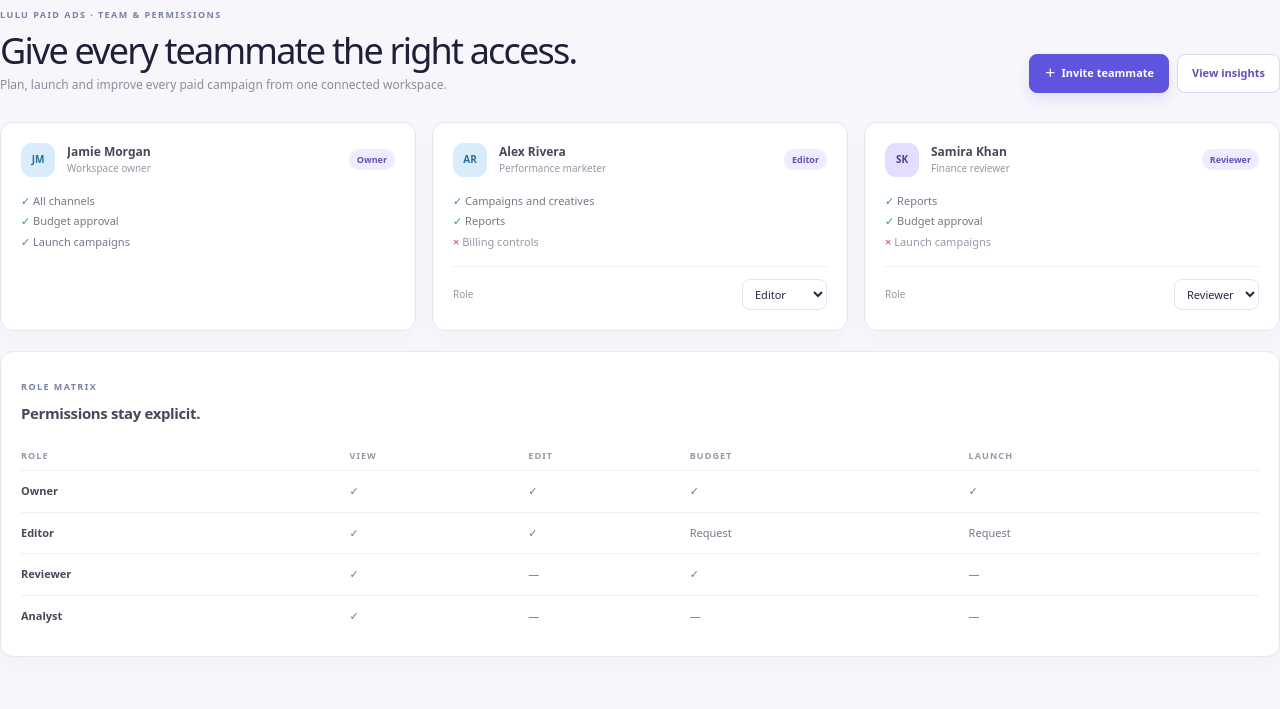
Test: Team & Permissions › shows the team and role matrix, invites a teammate and changes a role
The width and height of the screenshot is (1280, 709).
Expected: the text "Samira Khan" is shown, x1=931 y1=143 x2=1007 y2=160
Expected: the text "Finance reviewer" is shown, x1=931 y1=161 x2=1010 y2=175
Click the button "＋ Invite teammate" at (1099, 73), box x1=1029 y1=54 x2=1169 y2=93
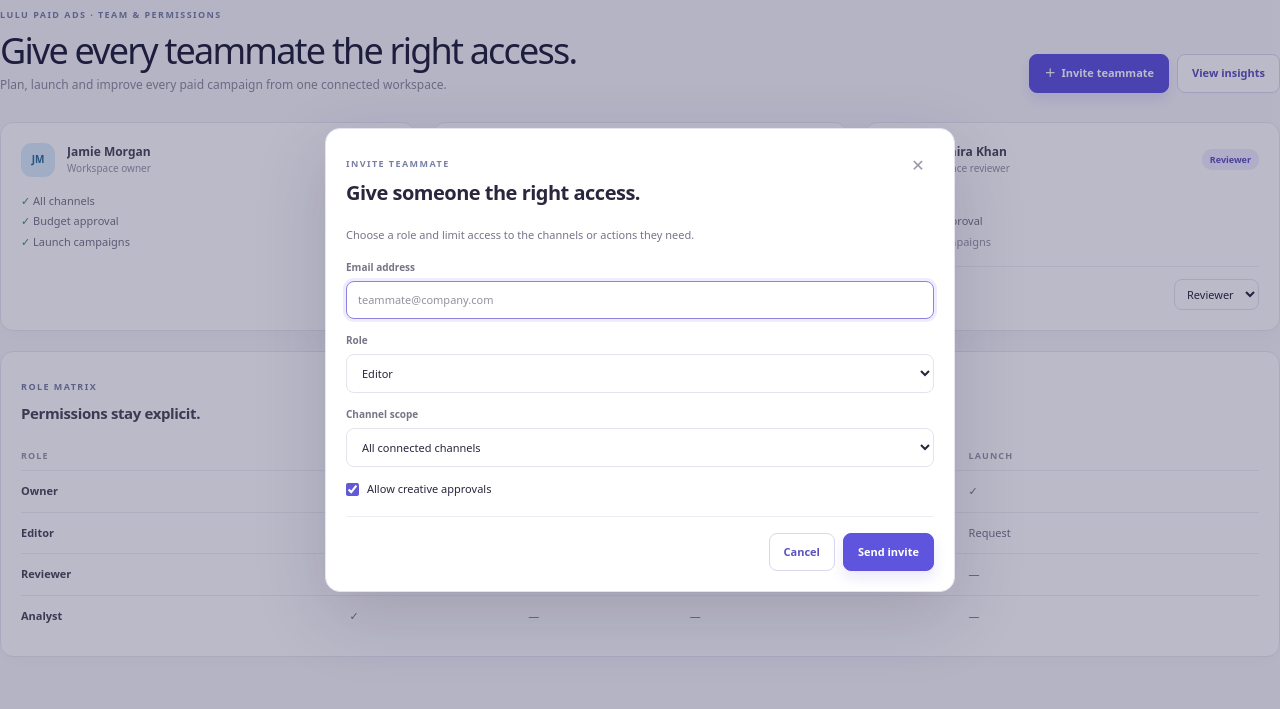
Type "lena@studio.de" into the field labelled "Email address" at (640, 300), box x1=346 y1=280 x2=934 y2=319
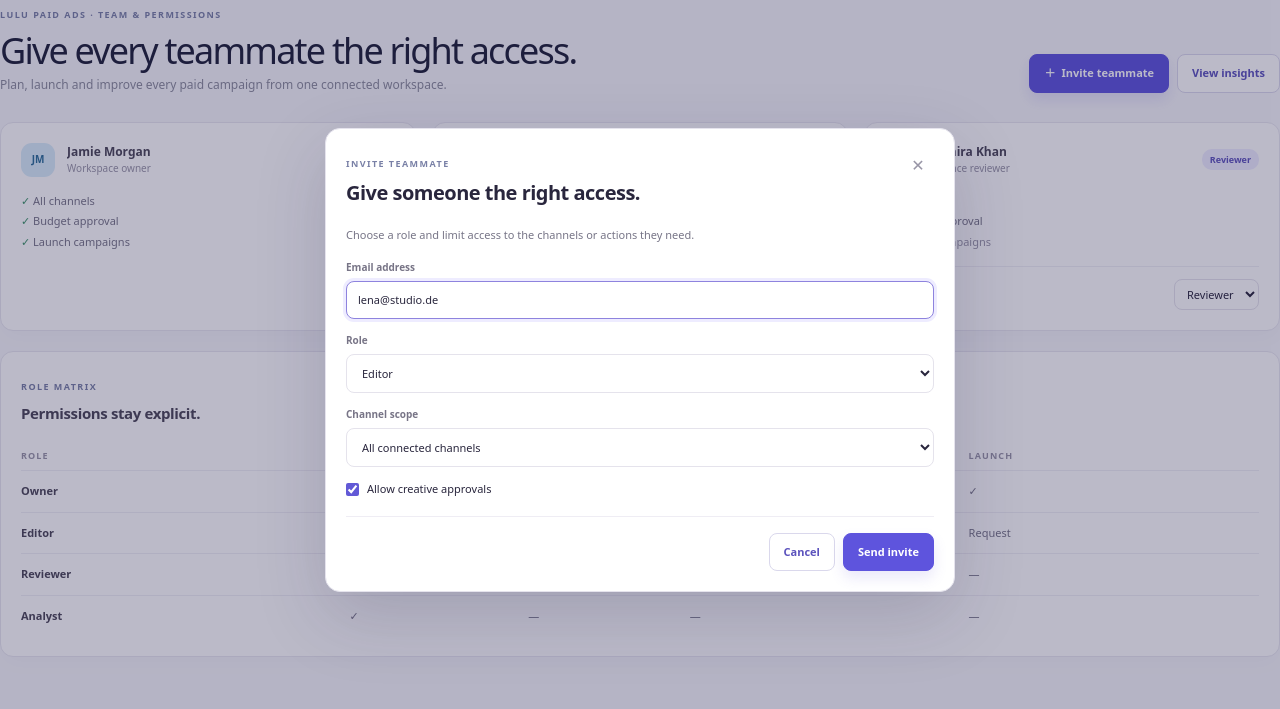
Select "Analyst" in the dropdown labelled "Role" at (640, 374), box x1=346 y1=354 x2=934 y2=393
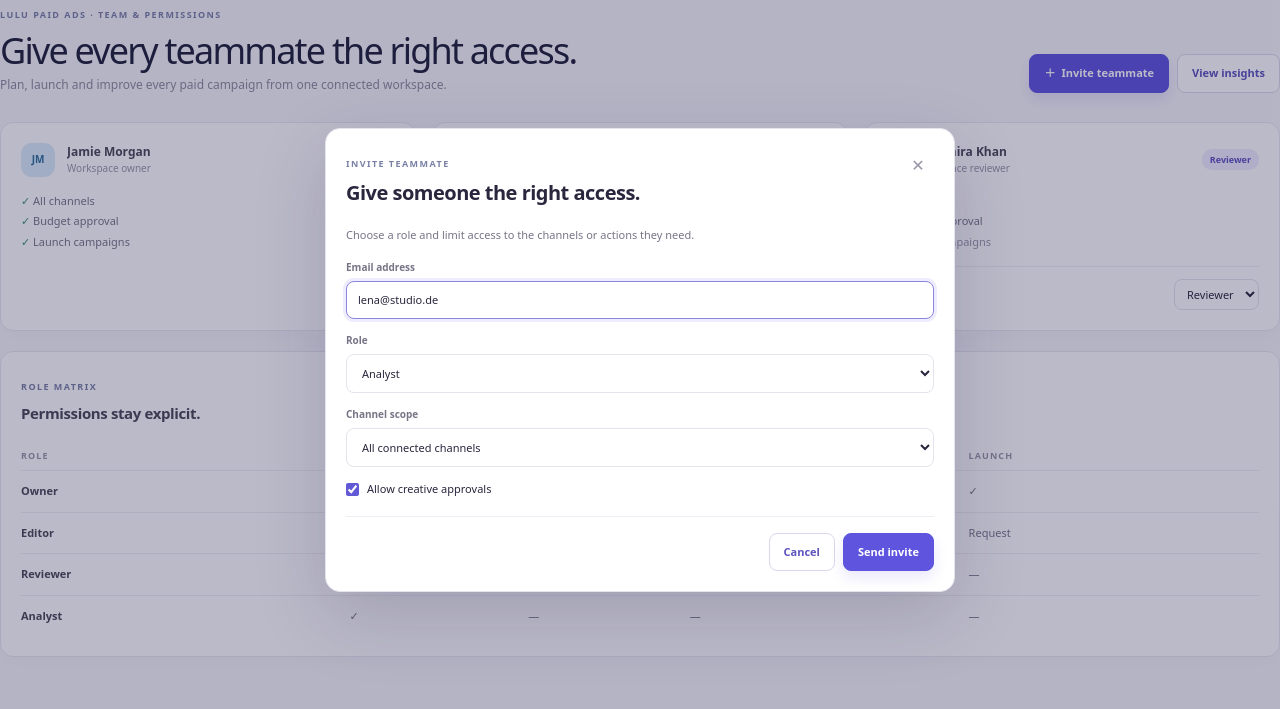
Click the button "Send invite" at (888, 552), box x1=843 y1=532 x2=934 y2=571
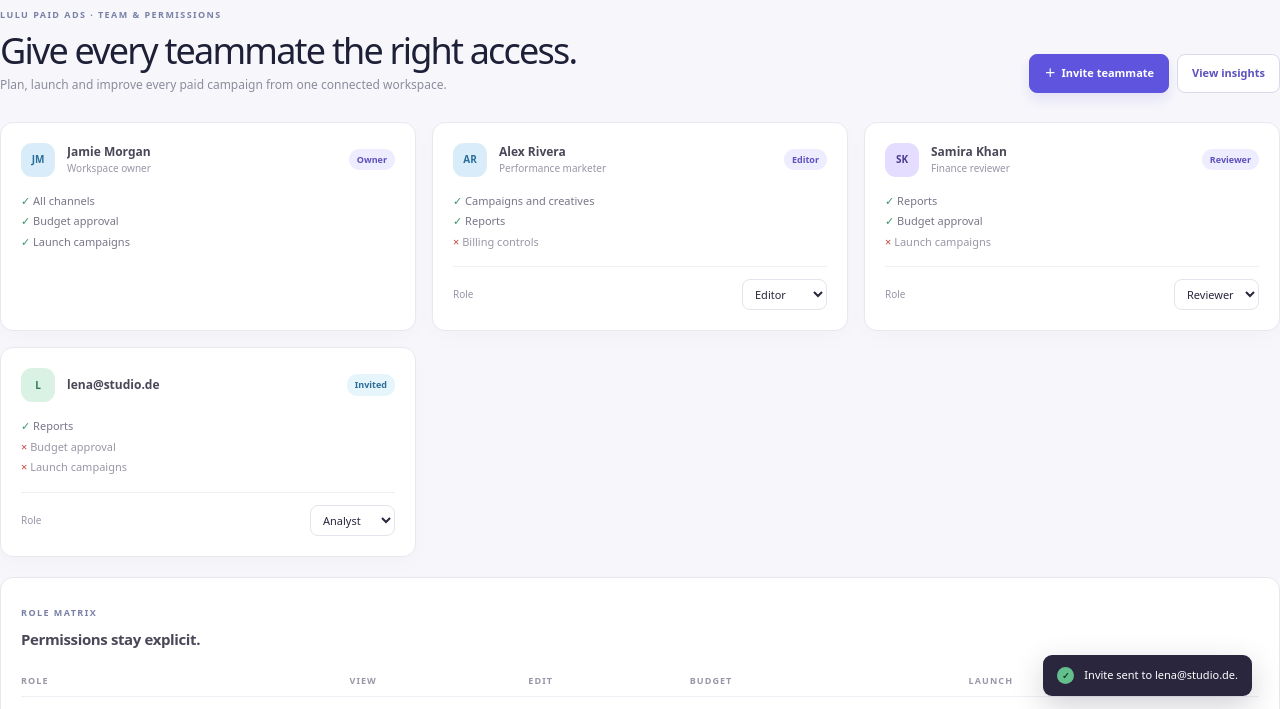
Expected: the text "lena@studio.de" is shown, x1=67 y1=376 x2=160 y2=393
Select "Reviewer" in the dropdown labelled "Role" below "Billing controls" at (784, 295), box x1=742 y1=279 x2=827 y2=310
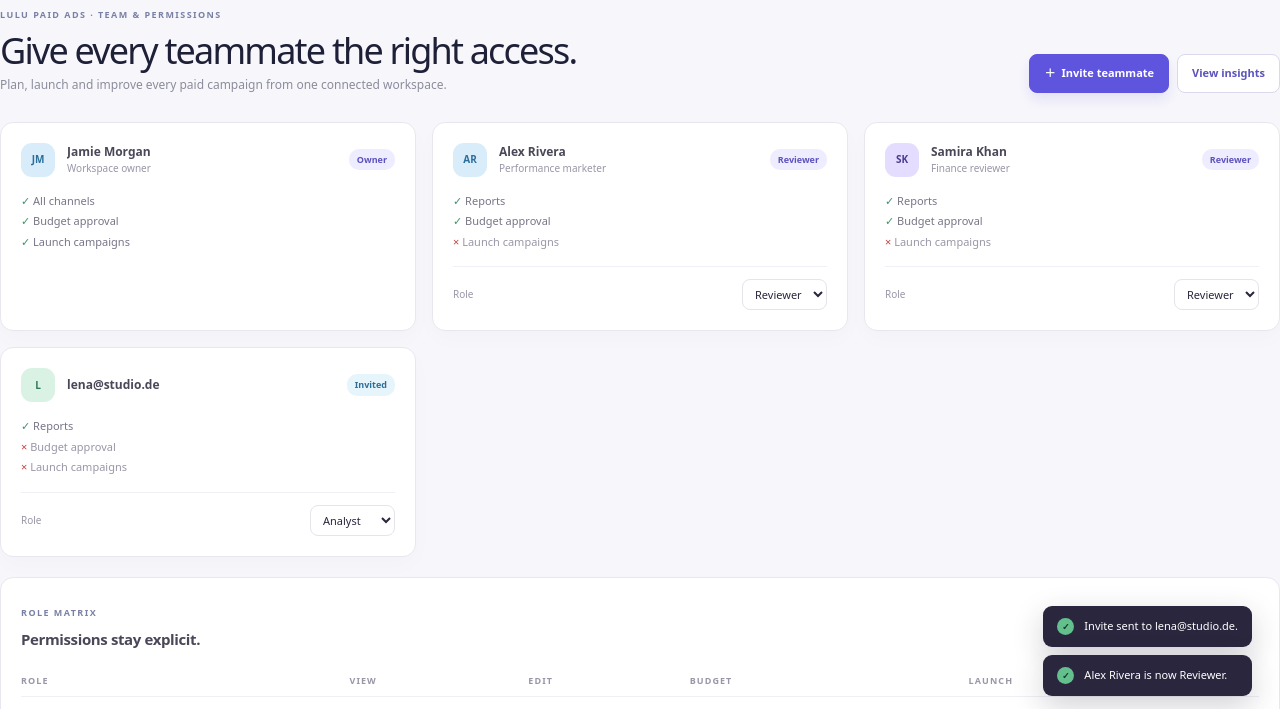
Expected: the text "Alex Rivera is now Reviewer." is shown, x1=1084 y1=667 x2=1227 y2=682
